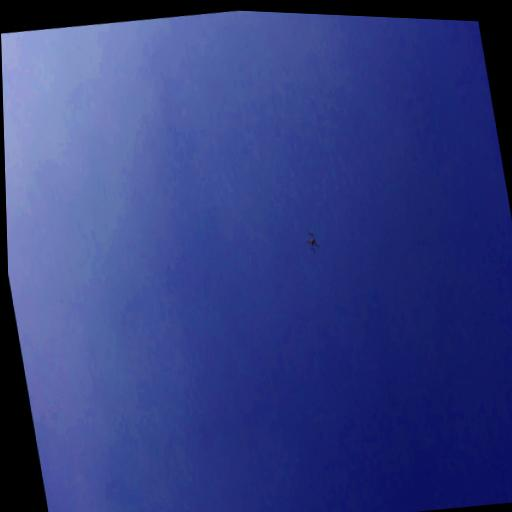drones: (304, 230, 322, 254)
